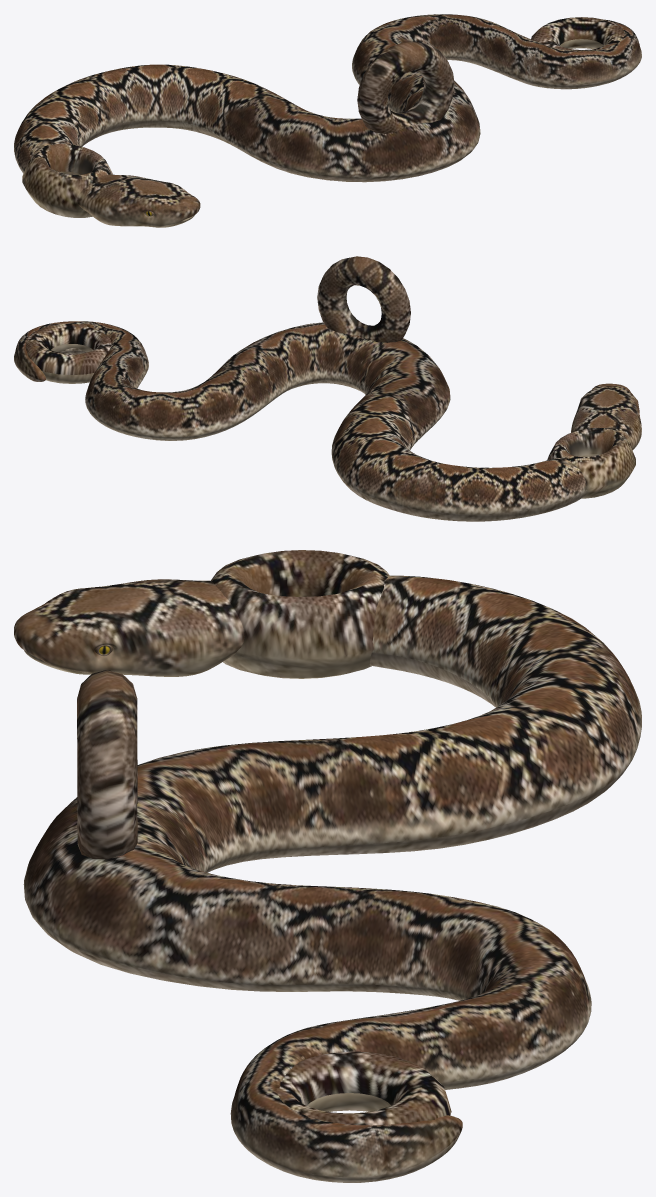
Rendered from snake.glb.
3 views of the same model, one above another, from view 1: azimuth 30°, elevation 25°; view 2: azimuth 150°, elevation 25°; view 3: azimuth 270°, elevation 25° (orthographic). The views are drawn at different scales.
Parts seen in each view (by area): view 1: 21945_Snake_V1; view 2: 21945_Snake_V1; view 3: 21945_Snake_V1.
Part boxes in pixels (x1,y1,x2,y2): 21945_Snake_V1: [14, 14, 641, 227]; 21945_Snake_V1: [14, 256, 641, 521]; 21945_Snake_V1: [14, 550, 641, 1182].
Bounding box in the file's own units: 6.23 × 1.23 × 2.89.
Materials: 1 (1 with a texture image).
